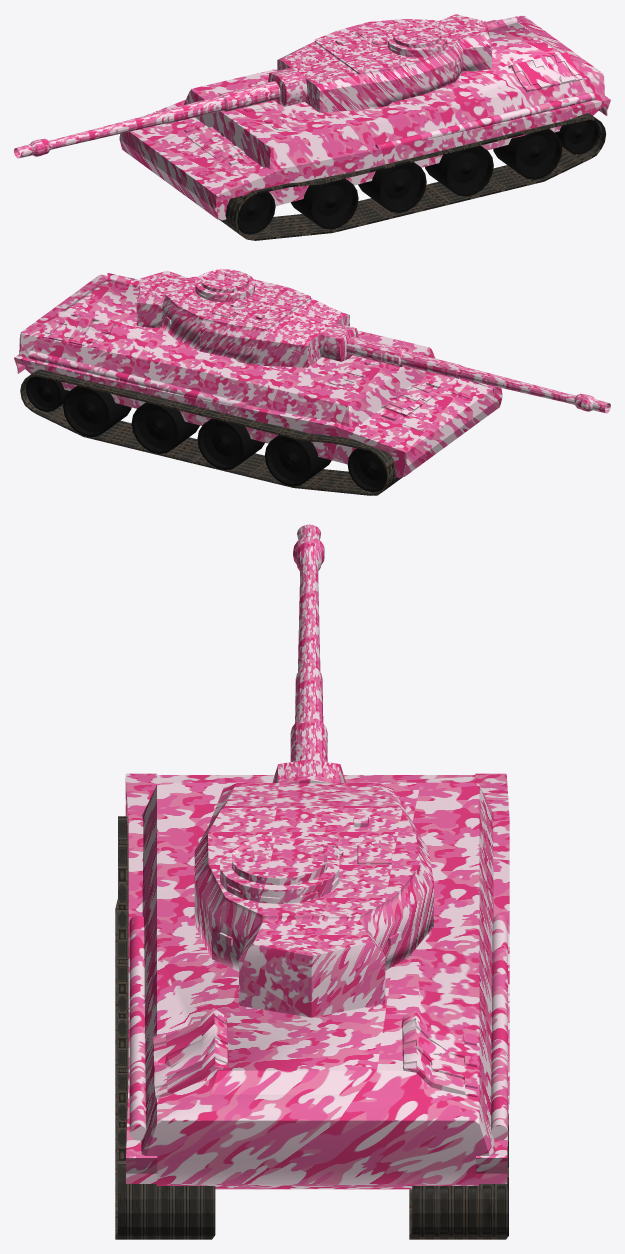
Rendered from tank.FBX.
3 renders of one model, top to bottom at view 1: azimuth 30°, elevation 25°; view 2: azimuth 150°, elevation 25°; view 3: azimuth 270°, elevation 25°, orthographic. The views are drawn at different scales.
Visible parts, largest first — view 1: tank, Plane007, stvol, Cylinder031, Cylinder030, Cylinder029, Cylinder028, Cylinder027, Cylinder032; view 2: tank, Plane008, stvol, Cylinder034, Cylinder035, Cylinder036, Cylinder037, Cylinder038, Cylinder033; view 3: tank, Plane007, stvol, Plane008.
Boxes of the visible parts, bbox=[...] form: tank: bbox=[119, 14, 610, 220]; Plane007: bbox=[219, 113, 606, 240]; stvol: bbox=[14, 69, 303, 158]; Cylinder031: bbox=[493, 129, 562, 179]; Cylinder030: bbox=[425, 145, 493, 196]; Cylinder029: bbox=[358, 162, 426, 212]; Cylinder028: bbox=[290, 178, 358, 229]; Cylinder027: bbox=[237, 192, 275, 234]; Cylinder032: bbox=[555, 120, 599, 154]; tank: bbox=[14, 269, 502, 478]; Plane008: bbox=[20, 369, 403, 495]; stvol: bbox=[323, 324, 610, 413]; Cylinder034: bbox=[63, 385, 131, 437]; Cylinder035: bbox=[131, 402, 199, 453]; Cylinder036: bbox=[197, 418, 264, 469]; Cylinder037: bbox=[264, 435, 331, 486]; Cylinder038: bbox=[347, 448, 386, 492]; Cylinder033: bbox=[26, 376, 69, 411]; tank: bbox=[125, 773, 509, 1189]; Plane007: bbox=[115, 816, 214, 1239]; stvol: bbox=[272, 524, 345, 782]; Plane008: bbox=[409, 1115, 508, 1239].
Size of the model in its own units: 146 by 35.17 by 45.62.
Materials: 3 (2 with a texture image).
